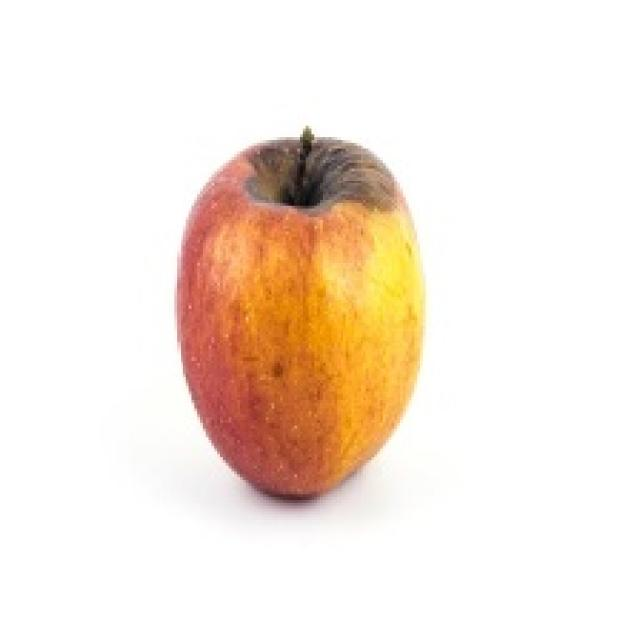rotten_apple: (182, 141, 419, 495)
